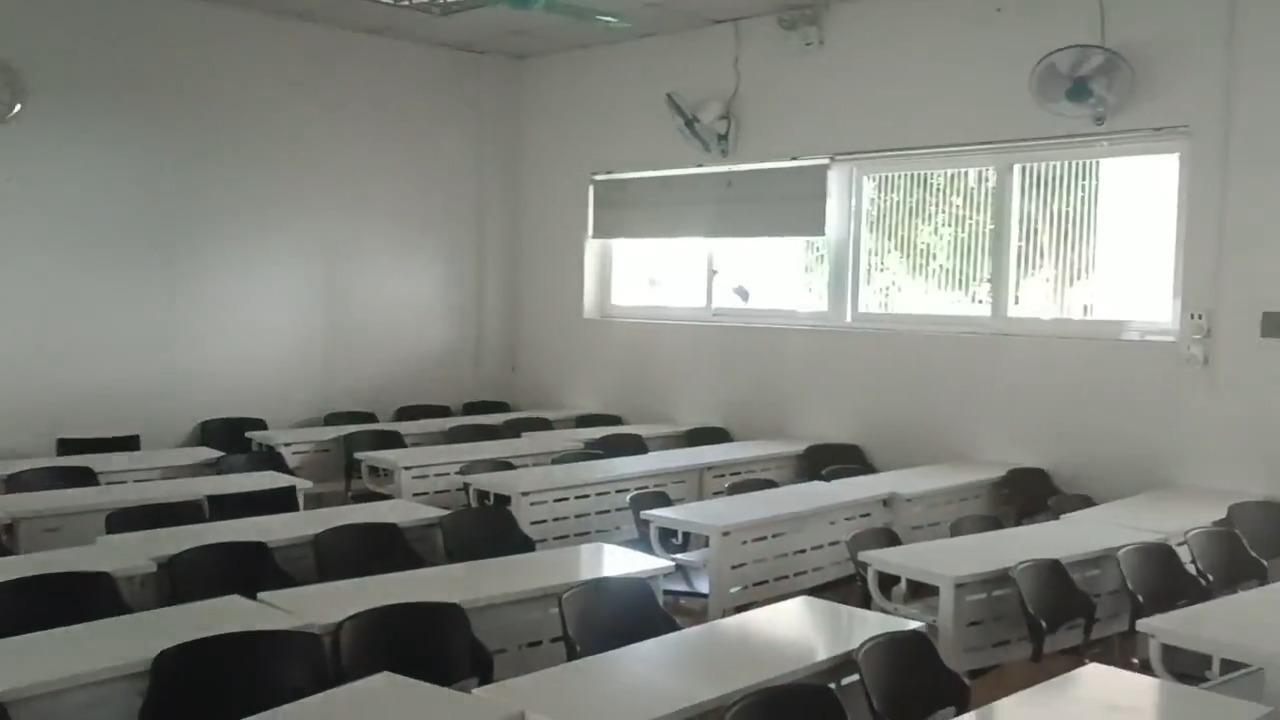chair: (141, 626, 326, 720), (325, 597, 496, 680), (852, 630, 998, 710), (546, 571, 711, 641), (999, 553, 1108, 658), (5, 562, 129, 641), (144, 540, 305, 597), (1111, 533, 1200, 628), (605, 485, 704, 557), (1176, 522, 1276, 593), (426, 509, 554, 562), (300, 526, 428, 577), (92, 496, 223, 535), (830, 519, 921, 575), (202, 485, 315, 524), (724, 690, 849, 720), (197, 449, 325, 476), (333, 430, 414, 469), (185, 417, 272, 449), (715, 478, 790, 513), (55, 427, 148, 455), (943, 505, 1013, 541), (7, 465, 121, 487), (540, 445, 615, 476), (809, 460, 883, 491), (675, 413, 731, 453), (790, 439, 873, 465), (1232, 502, 1280, 546), (997, 466, 1061, 497), (445, 452, 530, 475), (589, 429, 651, 459), (444, 419, 508, 448), (575, 399, 625, 434), (1052, 492, 1105, 522), (500, 412, 557, 438), (394, 400, 453, 424), (315, 407, 377, 426), (458, 395, 507, 413)
clock: (0, 64, 34, 129)
fan: (1013, 41, 1180, 135), (654, 90, 731, 167)
table: (474, 597, 920, 719), (859, 517, 1160, 672), (0, 598, 298, 719), (259, 539, 675, 622), (645, 479, 890, 609), (460, 457, 705, 554), (119, 498, 454, 561), (1140, 579, 1279, 708), (974, 663, 1268, 719), (3, 469, 309, 520), (828, 456, 1018, 533), (359, 437, 579, 499), (255, 674, 533, 719), (1079, 482, 1235, 538), (662, 432, 815, 484), (3, 446, 213, 482), (2, 540, 155, 577), (249, 418, 448, 446), (421, 406, 583, 428), (536, 417, 688, 439)
